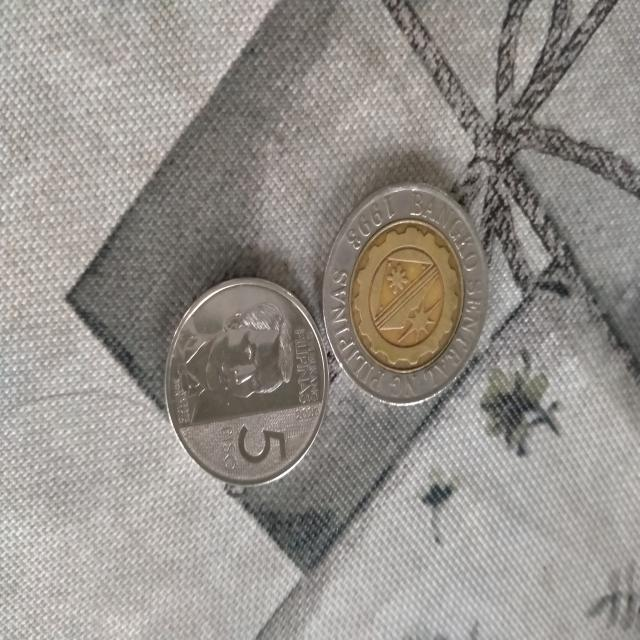10_Old_Back: (320, 180, 492, 406)
5_New_Front: (224, 404, 286, 480)
